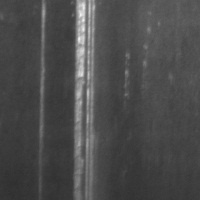scratches: (70, 0, 99, 199), (36, 0, 49, 172)
